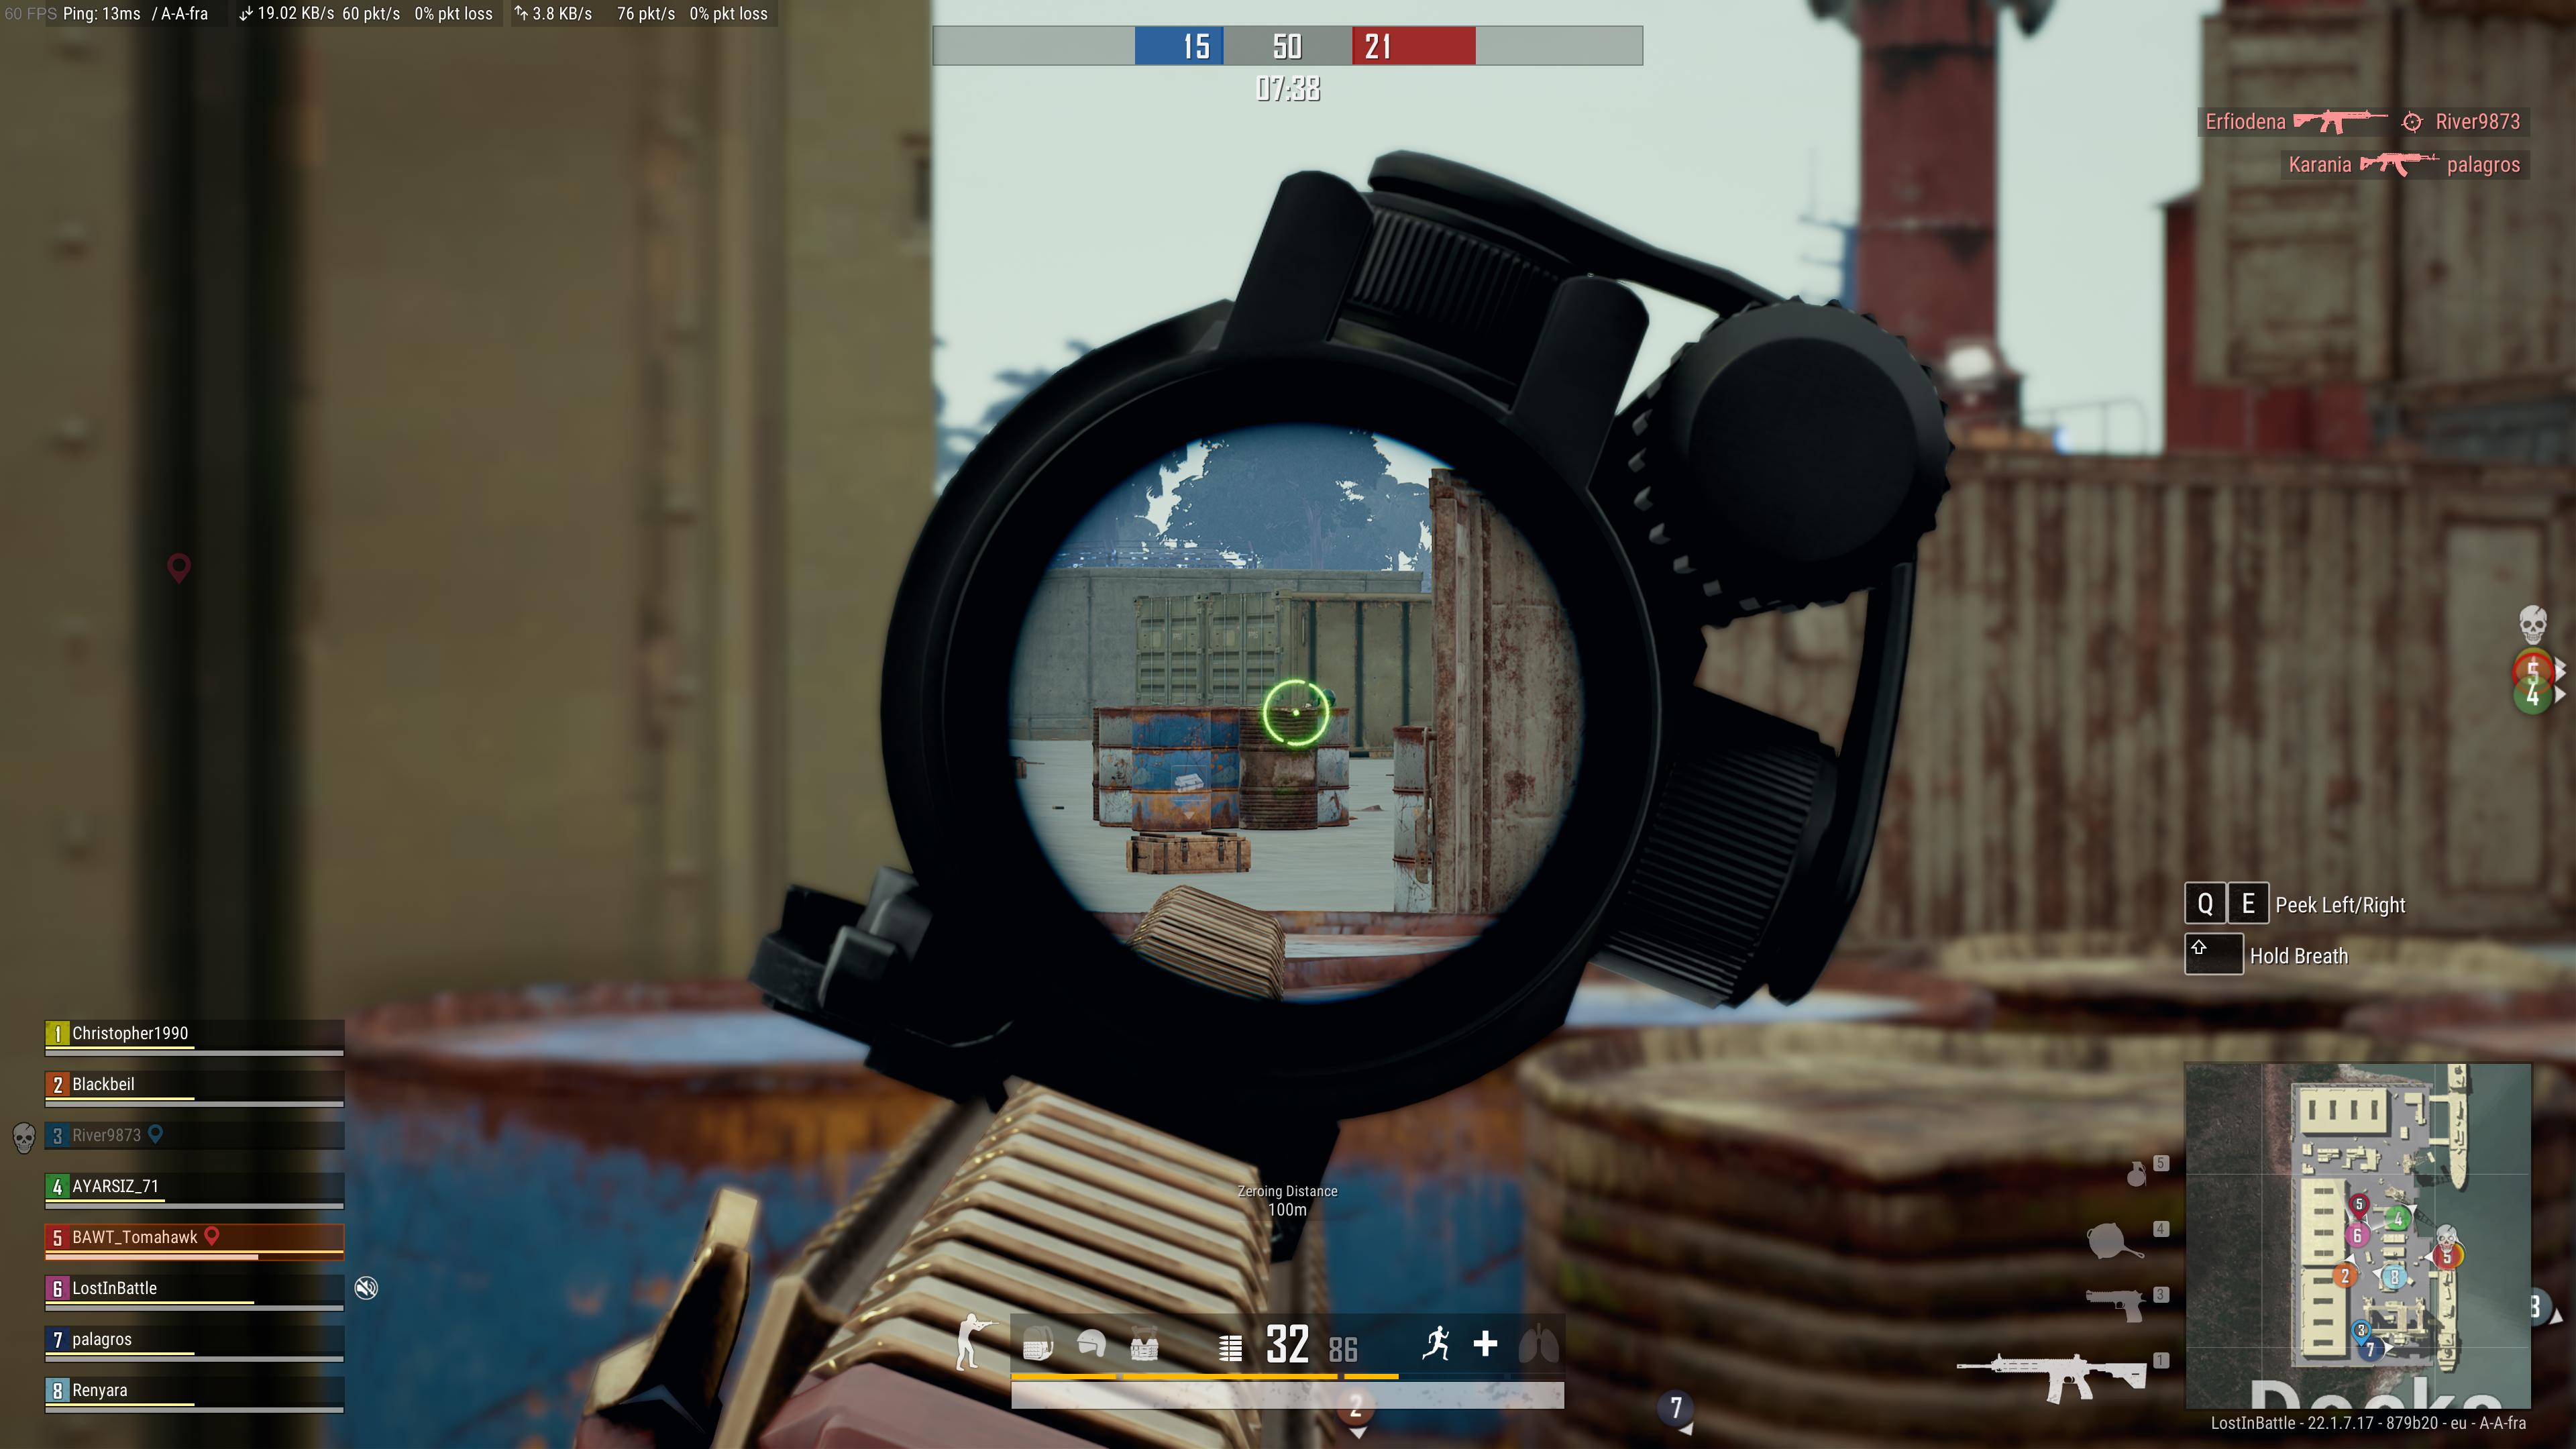enemy_head: (1316, 688, 1336, 708)
